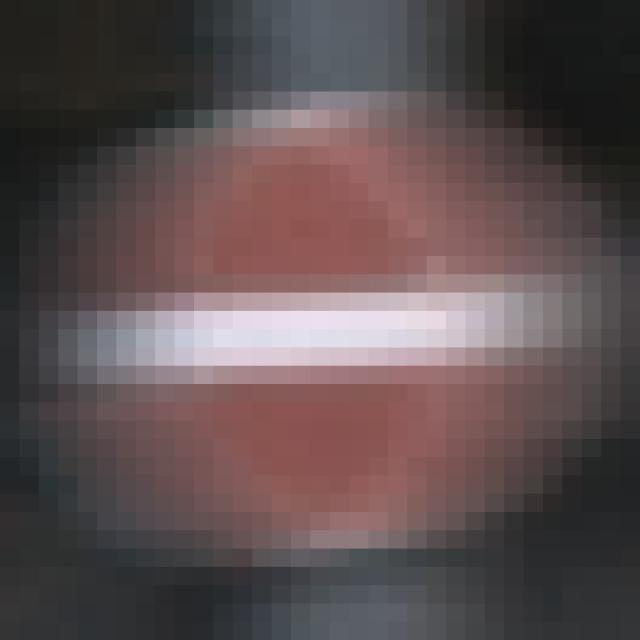No Entry: (98, 93, 544, 550)
